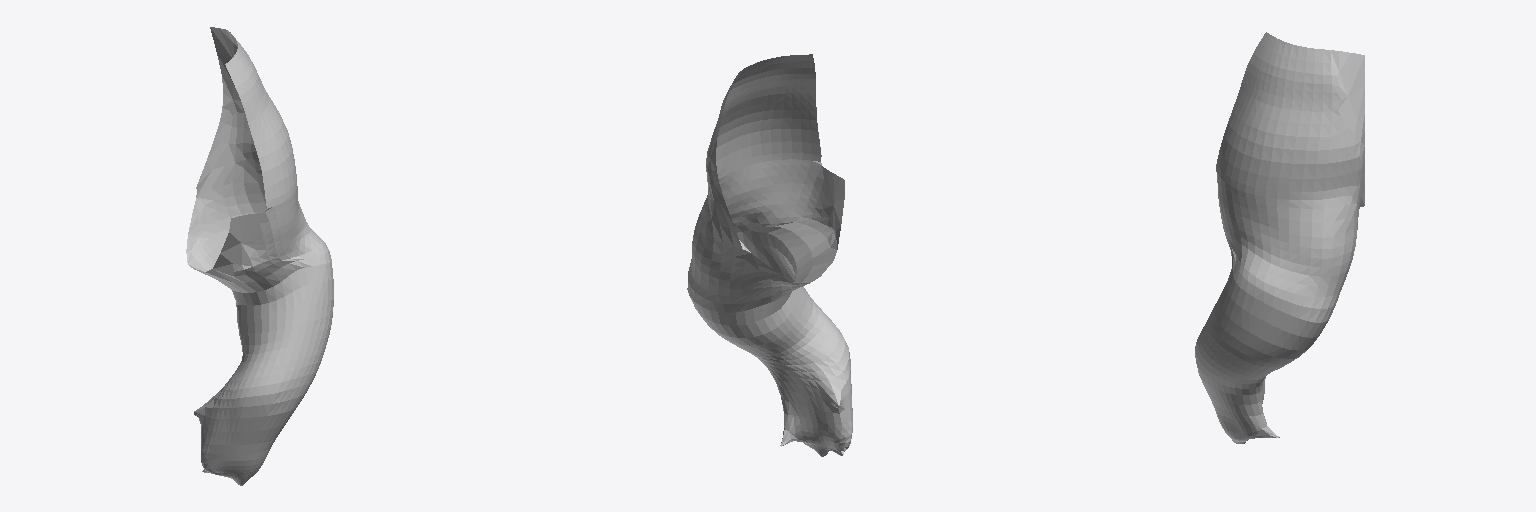
File: larm.obj
The picture shows the model from 3 angles: view 1: azimuth 30°, elevation 25°; view 2: azimuth 150°, elevation 25°; view 3: azimuth 270°, elevation 25°; orthographic projection.
Parts seen in each view (by area): view 1: ??; view 2: ??; view 3: ??.
Part boxes in pixels (bbox=[...]): ??: bbox=[186, 27, 333, 485]; ??: bbox=[687, 54, 852, 456]; ??: bbox=[1195, 32, 1364, 443].
Size of the model in its own units: 11.96 by 34.07 by 12.73.